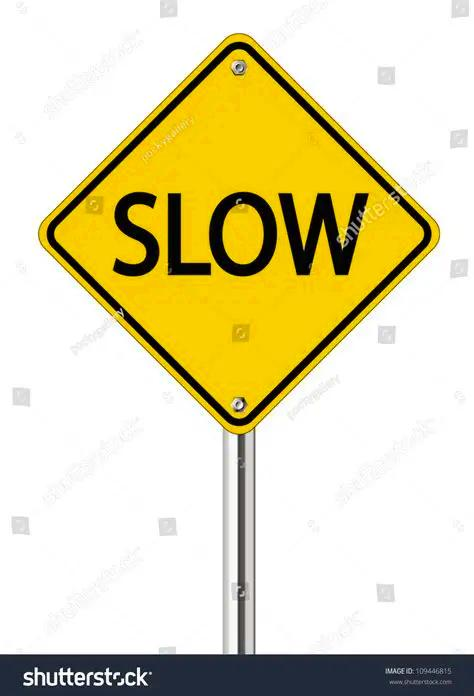Slow: (51, 42, 427, 417)
